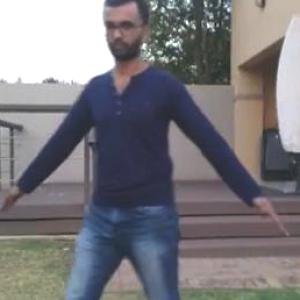land: (29, 5, 298, 298)
